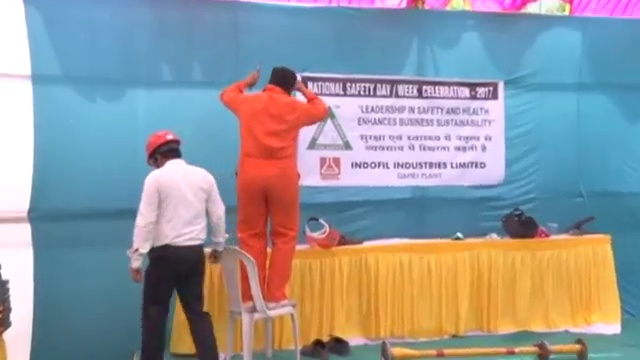helmet: (145, 128, 181, 163)
helmet_off: (266, 65, 298, 96)
helmet_on: (142, 128, 186, 170)
person: (222, 64, 326, 313), (126, 130, 227, 360)
